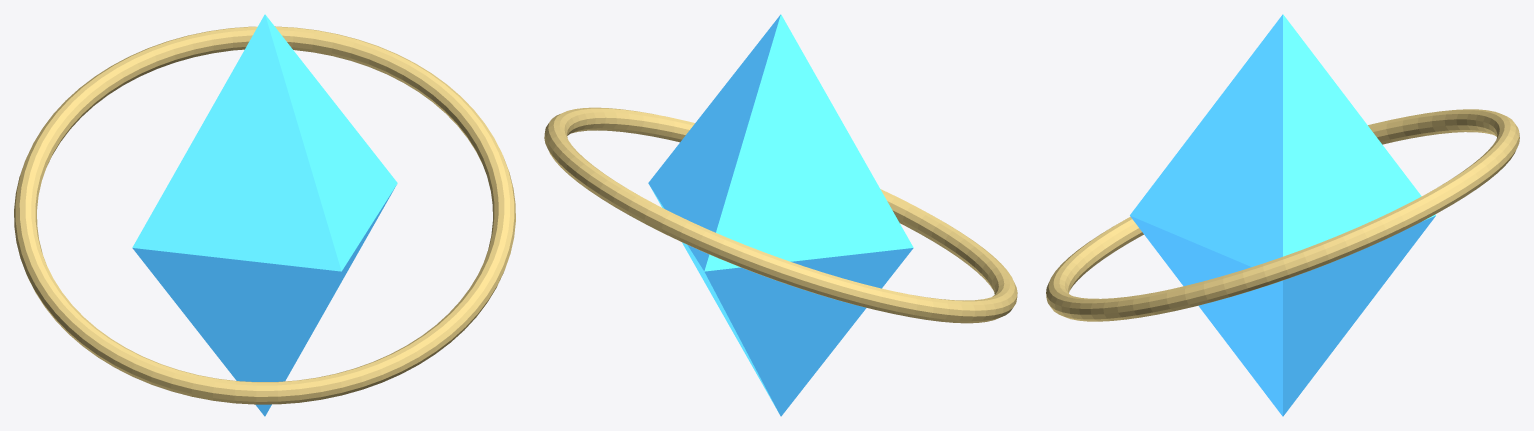
Rendered from reward-gem.glb.
3 renders of one model, left to right at view 1: azimuth 30°, elevation 25°; view 2: azimuth 150°, elevation 25°; view 3: azimuth 270°, elevation 25°, orthographic.
Parts seen in each view (by area): view 1: Crystal, OrbitRing; view 2: Crystal, OrbitRing; view 3: Crystal, OrbitRing.
Boxes of the visible parts, <box> form: Crystal: <box>132,14,397,416</box>; OrbitRing: <box>14,26,515,404</box>; Crystal: <box>648,14,913,416</box>; OrbitRing: <box>544,107,1017,323</box>; Crystal: <box>1130,14,1435,416</box>; OrbitRing: <box>1046,109,1519,321</box>.
Bounding box in the file's own units: 2.57 × 2.32 × 2.47.
